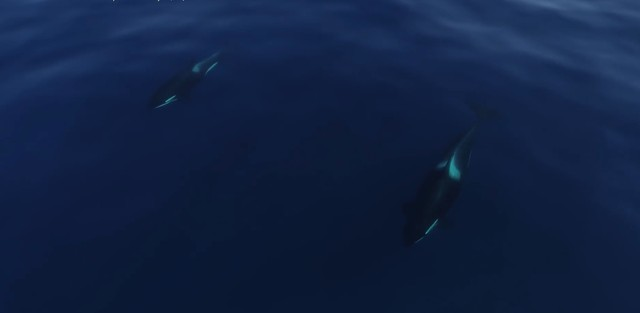whale: (392, 94, 506, 263), (141, 43, 237, 119)
